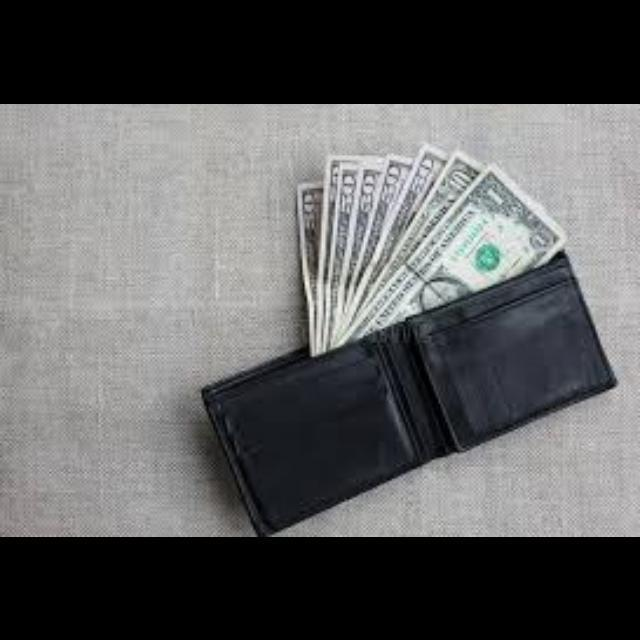wallet: (150, 252, 640, 536)
